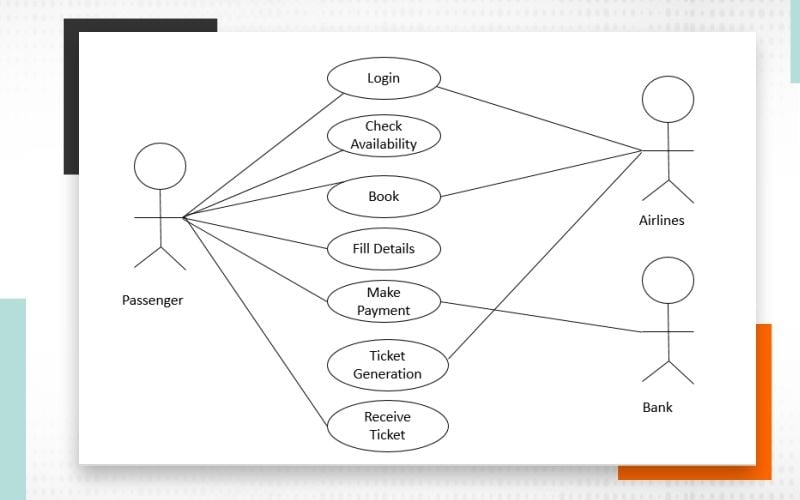actor: (641, 74, 700, 204), (640, 255, 699, 385), (132, 142, 191, 271)
association: (448, 151, 642, 360), (187, 220, 328, 426), (182, 91, 344, 219), (436, 84, 640, 151), (189, 220, 327, 301), (185, 149, 342, 215), (442, 150, 641, 197), (441, 300, 641, 332), (182, 181, 343, 215), (185, 217, 328, 251)
text: (349, 119, 423, 152), (351, 350, 426, 382), (356, 284, 412, 318), (362, 407, 411, 442), (121, 291, 190, 310), (352, 239, 417, 257), (638, 212, 689, 229), (366, 68, 403, 86), (367, 187, 402, 205), (640, 398, 676, 415)
use_case: (326, 337, 450, 393), (326, 399, 449, 453), (327, 173, 442, 219), (326, 55, 442, 100), (326, 227, 442, 272), (326, 278, 442, 323), (326, 114, 442, 158)
